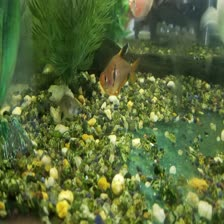Guppy: (51, 87, 85, 123)
Transparente: (97, 45, 146, 91)
